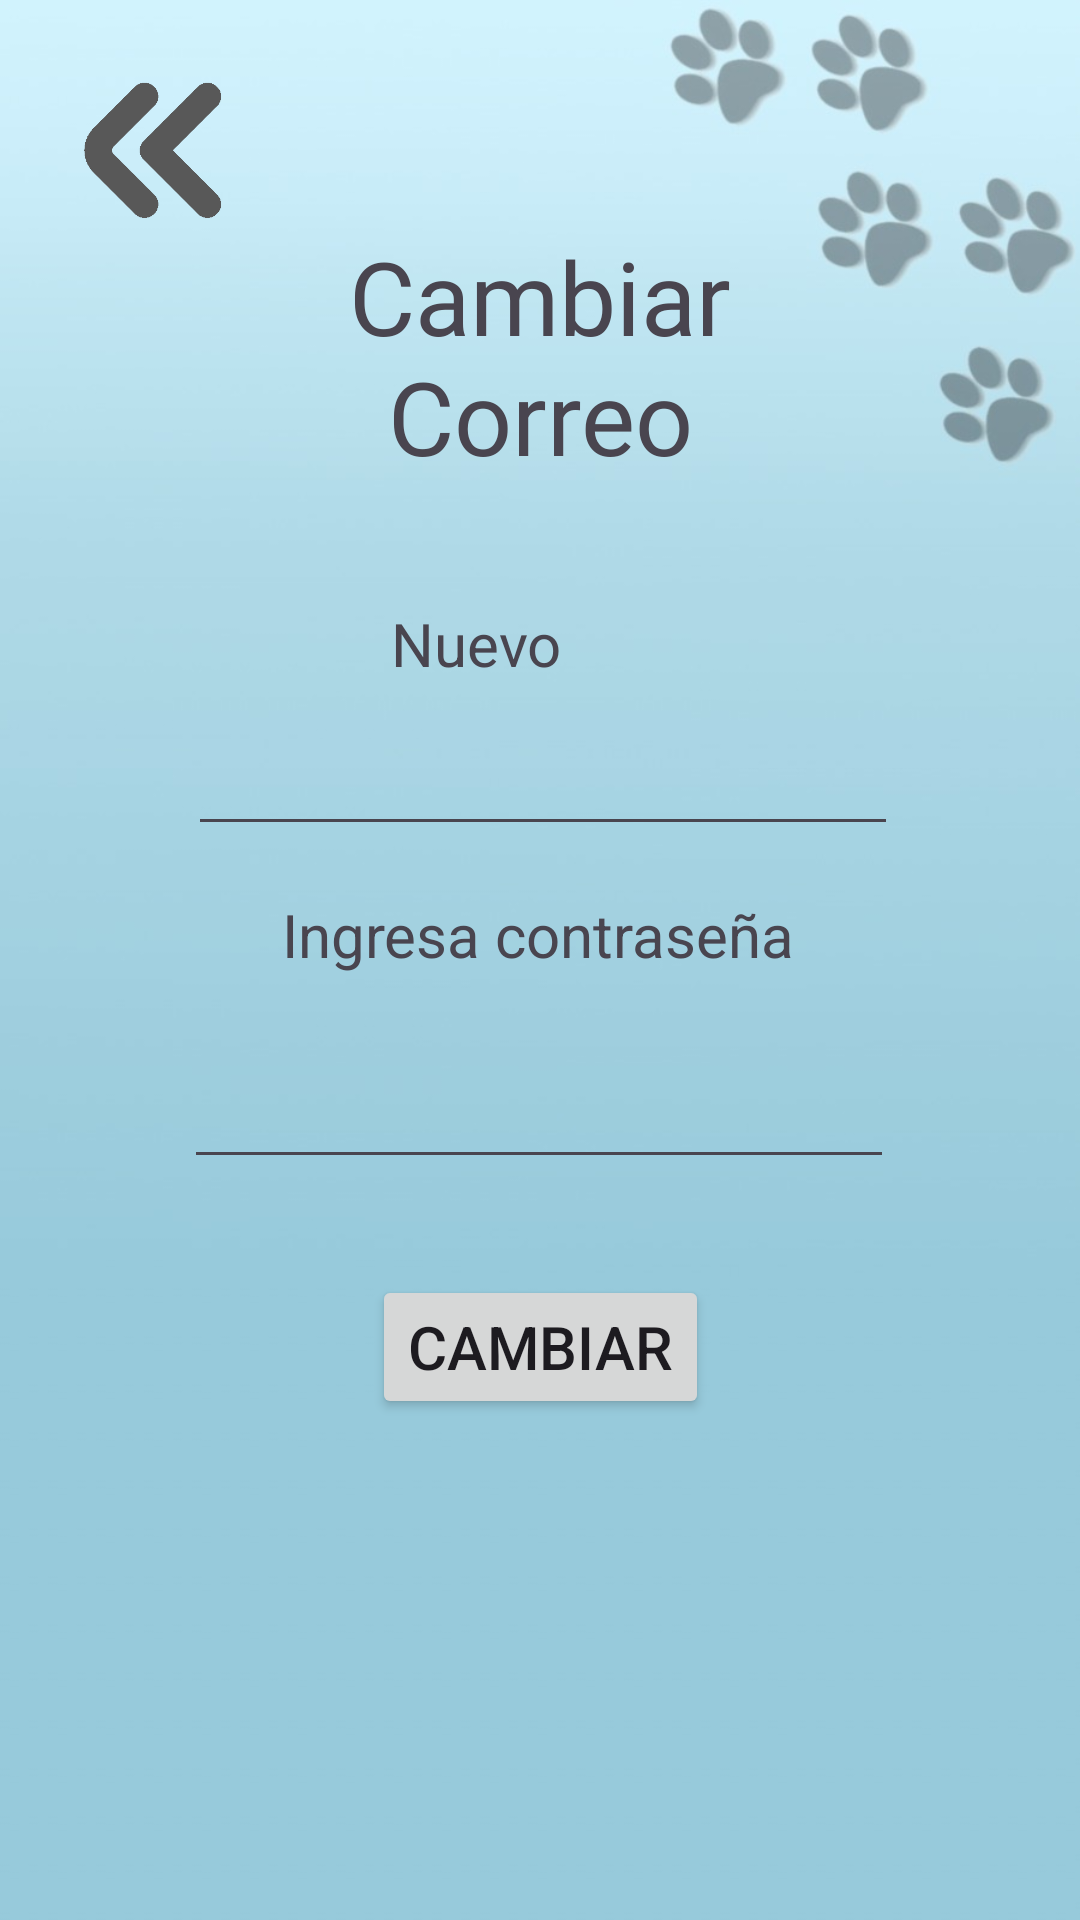

Screen size 1080w x 1920h. Icon name, then its center in pixels as [x,y]:
regresar: [152,150]
